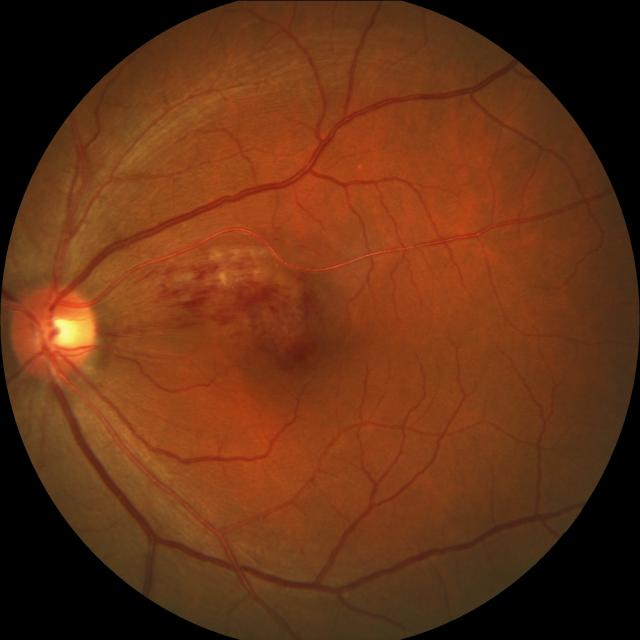OC: (37, 308, 81, 354)
OD: (9, 282, 96, 377)
